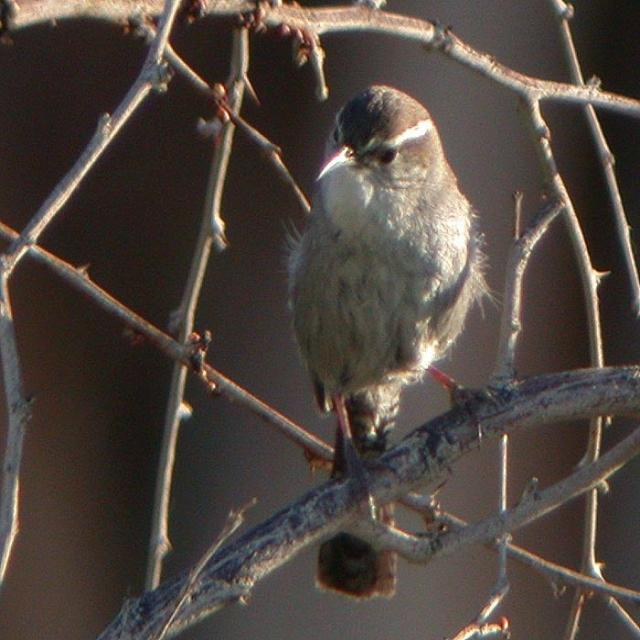bird: (290, 79, 496, 600)
